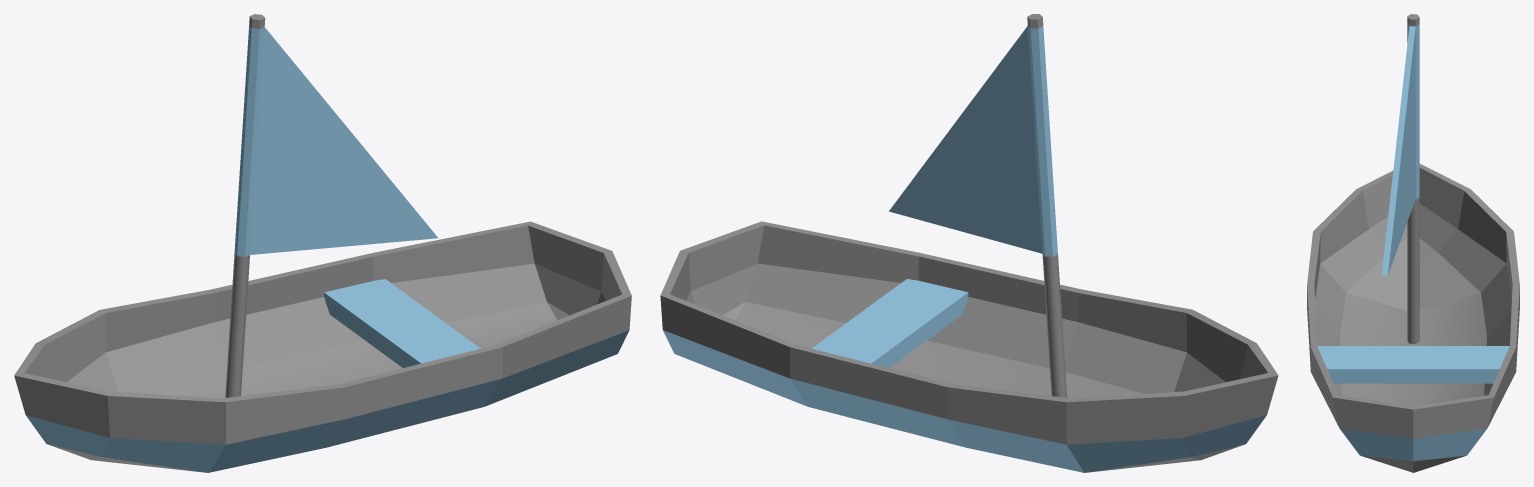
File: Tentacle_Bateau_001.FBX
The picture shows the model from 3 angles, left to right: view 1: azimuth 30°, elevation 25°; view 2: azimuth 150°, elevation 25°; view 3: azimuth 270°, elevation 25°; orthographic projection. The views are drawn at different scales.
Parts seen in each view (by area): view 1: Tentacle_Bateau_002, Tentacle_BatteauVoile; view 2: Tentacle_Bateau_002, Tentacle_BatteauVoile; view 3: Tentacle_Bateau_002, Tentacle_BatteauVoile.
Boxes of the visible parts, x1,y1,x2,y2 form: Tentacle_Bateau_002: (14,221,631,472); Tentacle_BatteauVoile: (225,14,438,397); Tentacle_Bateau_002: (660,221,1278,472); Tentacle_BatteauVoile: (889,14,1067,397); Tentacle_Bateau_002: (1307,164,1519,472); Tentacle_BatteauVoile: (1381,14,1419,343).
Size of the model in its own units: 69.87 by 48.81 by 27.05.
